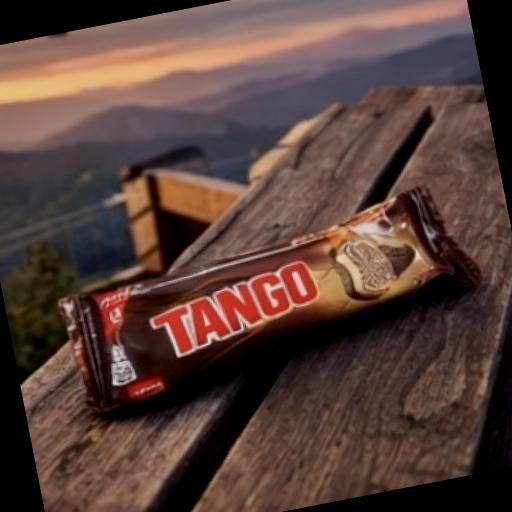tango: (23, 132, 512, 439)
